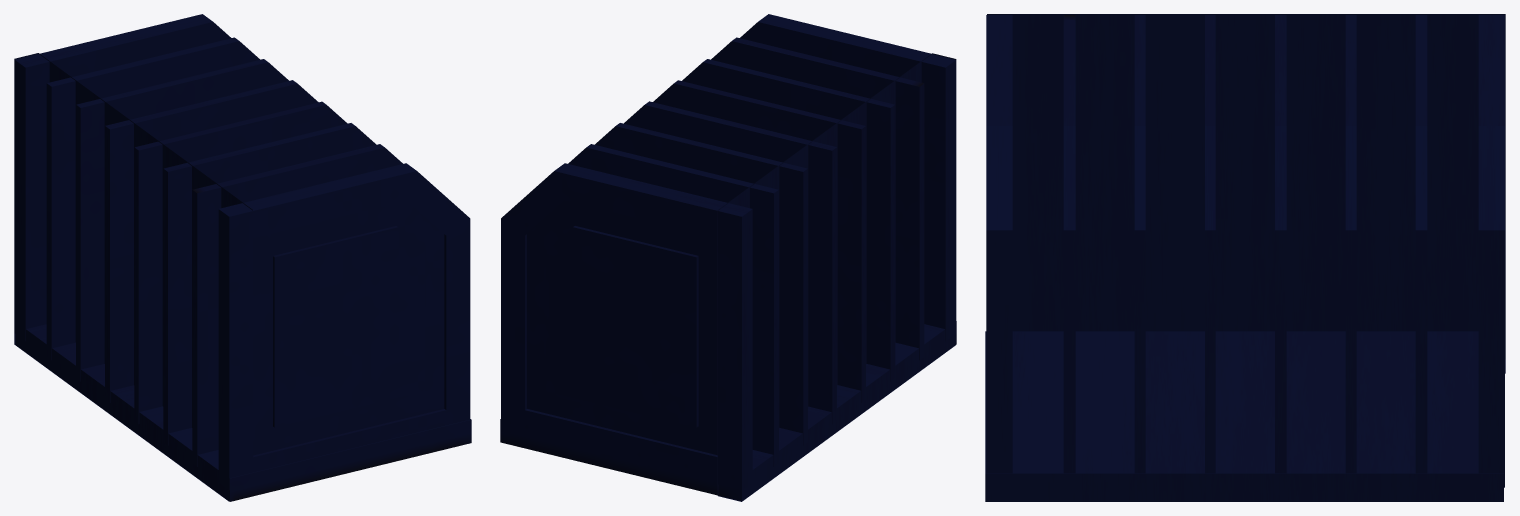
Rendered from Final_Racket small metalsheets.glb.
3 renders of one model, left to right at view 1: azimuth 30°, elevation 25°; view 2: azimuth 150°, elevation 25°; view 3: azimuth 270°, elevation 25°, orthographic. The views are drawn at different scales.
Visible parts, largest first — view 1: Cube; view 2: Cube; view 3: Cube.
Boxes of the visible parts, x1=… form: Cube: x1=14, y1=14, x2=471, y2=501; Cube: x1=500, y1=14, x2=956, y2=501; Cube: x1=985, y1=14, x2=1505, y2=501.
Size of the model in its own units: 8.44 by 9.52 by 12.99.
Materials: 1 (1 with a texture image).
